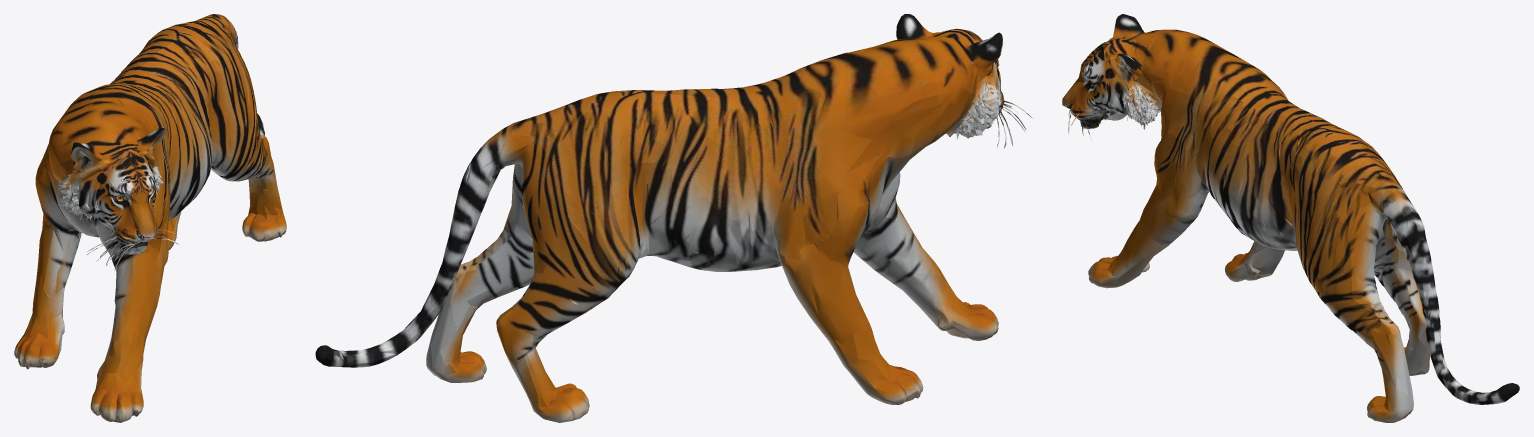
Rendered from fauna_tiger.glb.
3 views of the same model, side by side, from view 1: azimuth 30°, elevation 25°; view 2: azimuth 150°, elevation 25°; view 3: azimuth 270°, elevation 25° (orthographic). The views are drawn at different scales.
Bounding box in the file's own units: 1.77 × 1.17 × 1.9.
Materials: 1 (1 with a texture image).
